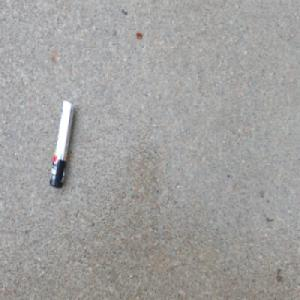Battery: (48, 97, 75, 190)
